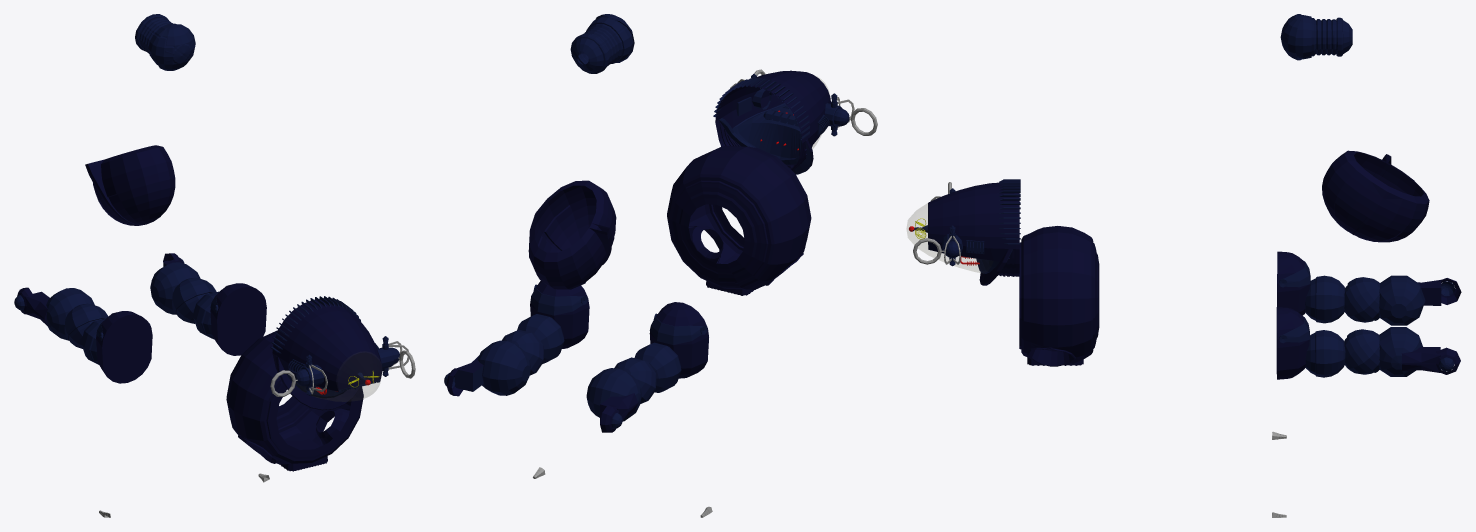
File: RobbyTheRobot_FanArt.dae
The picture shows the model from 3 angles, left to right: view 1: azimuth 30°, elevation 25°; view 2: azimuth 150°, elevation 25°; view 3: azimuth 270°, elevation 25°; orthographic projection. The views are drawn at different scales.
Visible parts, largest first — view 1: cuerpo, cabeza, pierna_R, pierna_L, culo, orejas, brazo_L, brazo_R, escafandra; view 2: cuerpo, cabeza, pierna_R, pierna_L, culo, brazo_R, brazo_L, orejas; view 3: cuerpo, pierna_L, pierna_R, culo, cabeza, brazo_L, escafandra, orejas.
Boxes of the visible parts, x1,y1,x2,y2 form: cuerpo: (226,330,363,471); cabeza: (270,296,382,410); pierna_R: (14,287,152,383); pierna_L: (150,253,266,355); culo: (85,145,175,225); orejas: (295,336,409,395); brazo_L: (139,14,195,59); brazo_R: (135,24,190,70); escafandra: (317,382,379,401); cuerpo: (667,146,811,295); cabeza: (713,70,830,174); pierna_R: (586,302,708,432); pierna_L: (444,281,589,396); culo: (528,180,616,289); brazo_R: (576,18,634,73); brazo_L: (570,14,625,66); orejas: (730,74,854,136); cuerpo: (1019,226,1099,366); pierna_L: (1276,307,1460,379); pierna_R: (1277,251,1461,325); culo: (1322,150,1429,242); cabeza: (909,179,1020,285); brazo_L: (1280,14,1352,59); escafandra: (907,203,980,272); orejas: (931,188,962,266).
Size of the model in its own units: 3.98 by 11.41 by 10.52.
